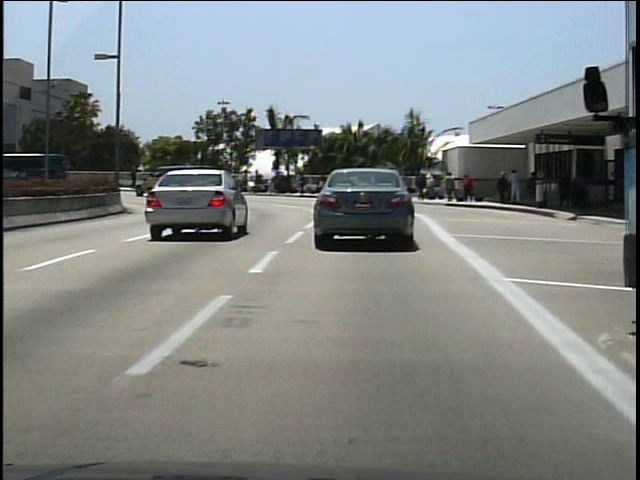person: (573, 169, 592, 217), (554, 164, 573, 211), (507, 167, 523, 207), (524, 169, 540, 207), (461, 172, 478, 207), (495, 170, 511, 205), (444, 169, 459, 203), (415, 170, 429, 202), (129, 162, 144, 191), (194, 169, 210, 194)
